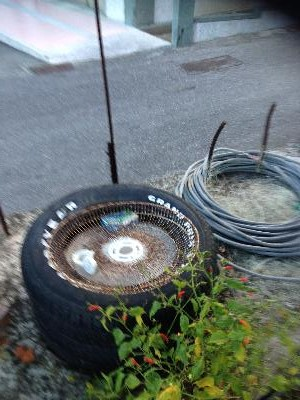tire: (20, 182, 210, 346)
